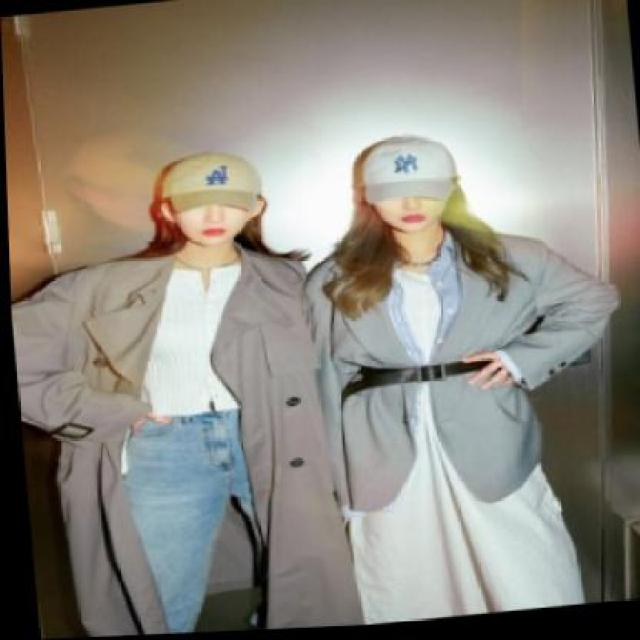hat: (349, 133, 460, 210), (154, 149, 261, 217)
